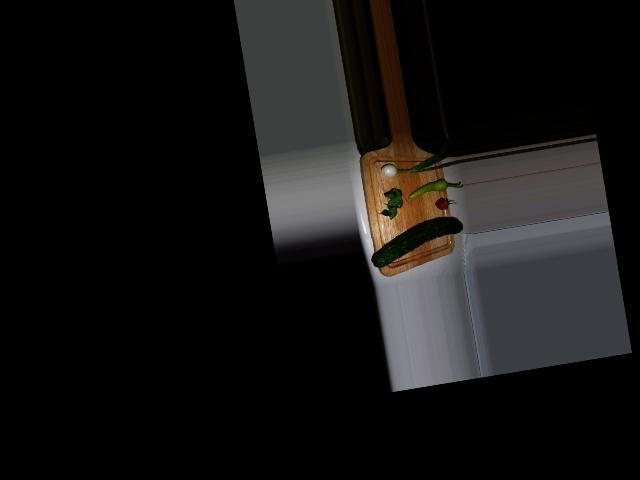cucumber: (367, 215, 466, 269)
